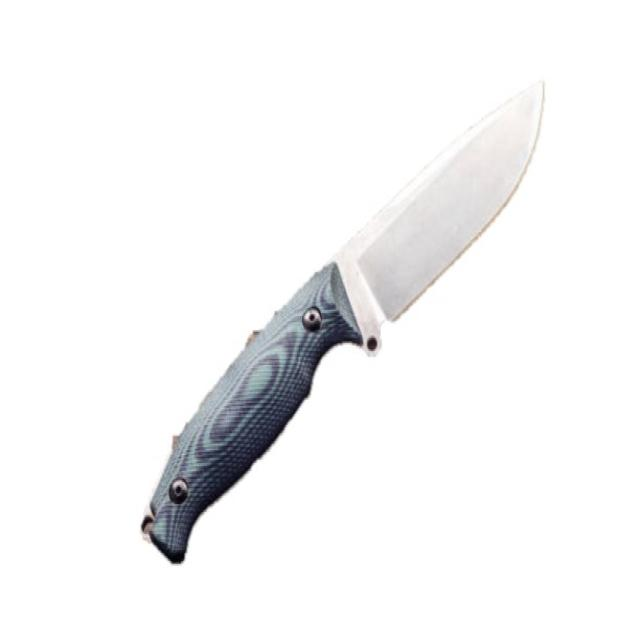knife: (136, 69, 557, 581)
